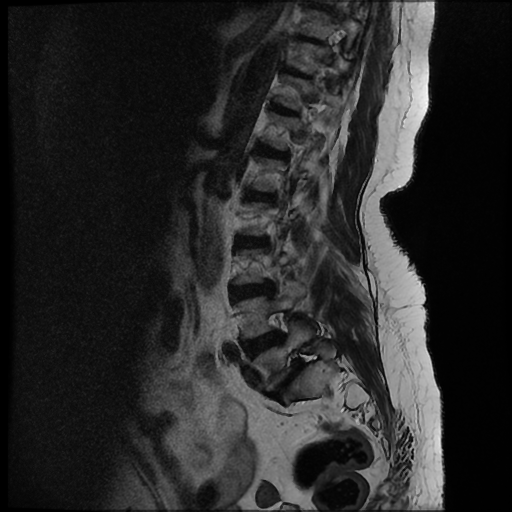LFS0: (263, 300, 298, 345)
